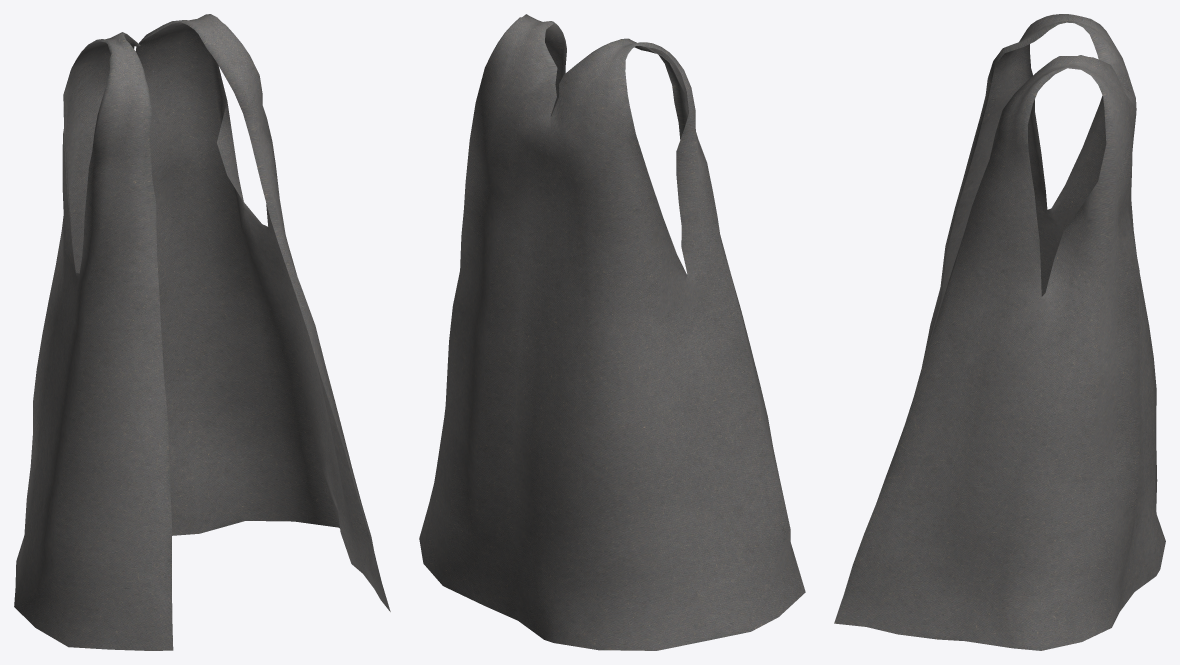
The model's file is clo_rivendell_pauldron_elite_robe.fbx.
The picture shows the model from 3 angles, left to right: view 1: azimuth 30°, elevation 25°; view 2: azimuth 150°, elevation 25°; view 3: azimuth 270°, elevation 25°; orthographic projection. The views are drawn at different scales.
Parts seen in each view (by area): view 1: clo_rivendell_pauldron_elite_robe; view 2: clo_rivendell_pauldron_elite_robe; view 3: clo_rivendell_pauldron_elite_robe.
Part boxes in pixels (box(x1,y1,x2,y2)): clo_rivendell_pauldron_elite_robe: box(14, 14, 390, 650); clo_rivendell_pauldron_elite_robe: box(419, 14, 805, 650); clo_rivendell_pauldron_elite_robe: box(834, 14, 1165, 650).
Bounding box in the file's own units: 0.8449 × 0.7529 × 1.36.
Materials: 1 (1 with a texture image).
